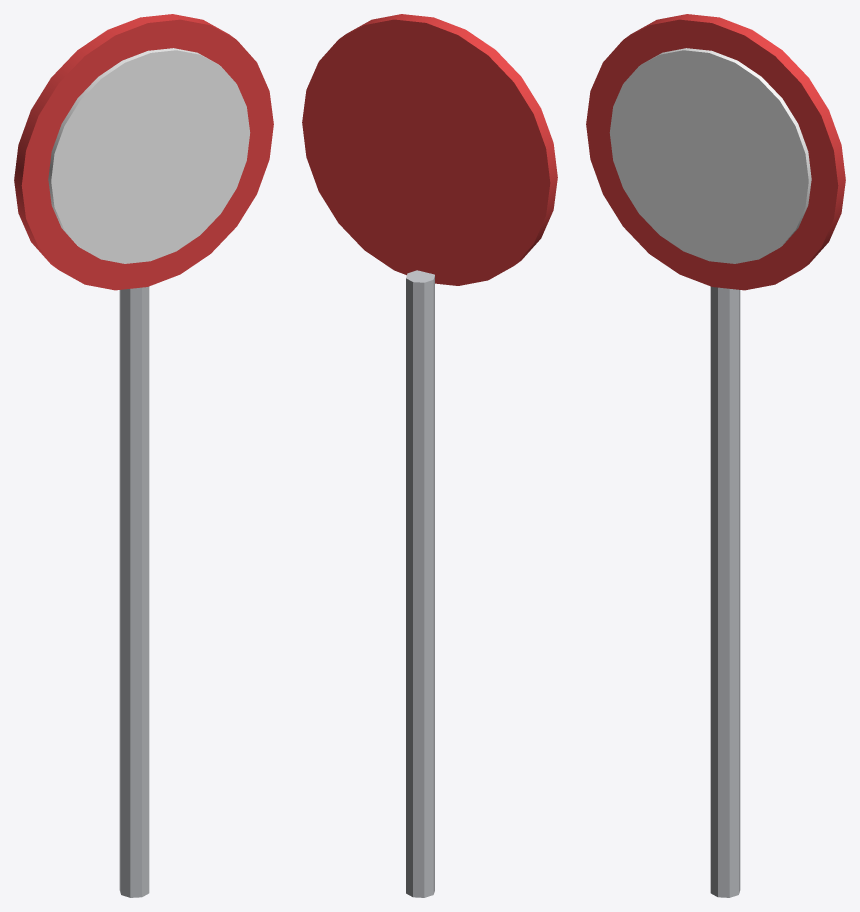
The model's file is sign_speed.glb.
The picture shows the model from 3 angles, left to right: view 1: azimuth 30°, elevation 25°; view 2: azimuth 150°, elevation 25°; view 3: azimuth 330°, elevation 25°; orthographic projection.
Visible parts, largest first — view 1: sign_speed; view 2: sign_speed; view 3: sign_speed.
Boxes of the visible parts, box(x1,y1,x2,y2) form: sign_speed: box(14, 14, 273, 897); sign_speed: box(302, 14, 557, 897); sign_speed: box(586, 14, 845, 897).
Size of the model in its own units: 0.76 by 2.53 by 0.125.
